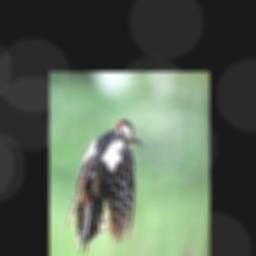Woodpecker: (66, 120, 146, 256)
